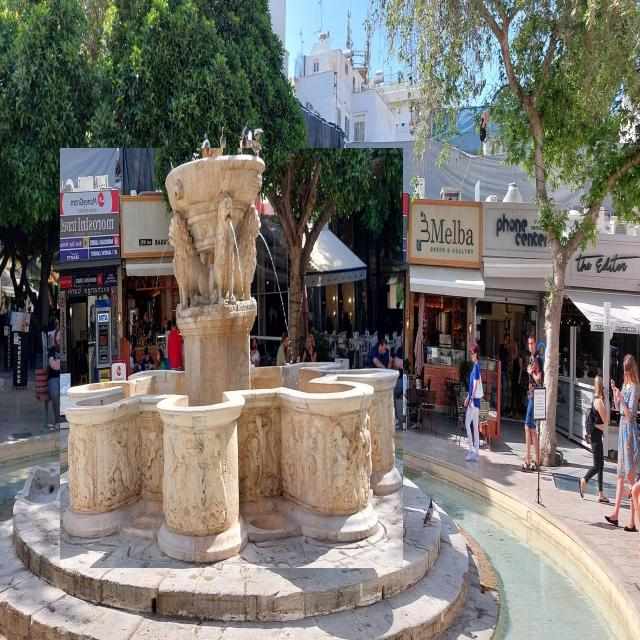Liontaria: (61, 149, 404, 569)
